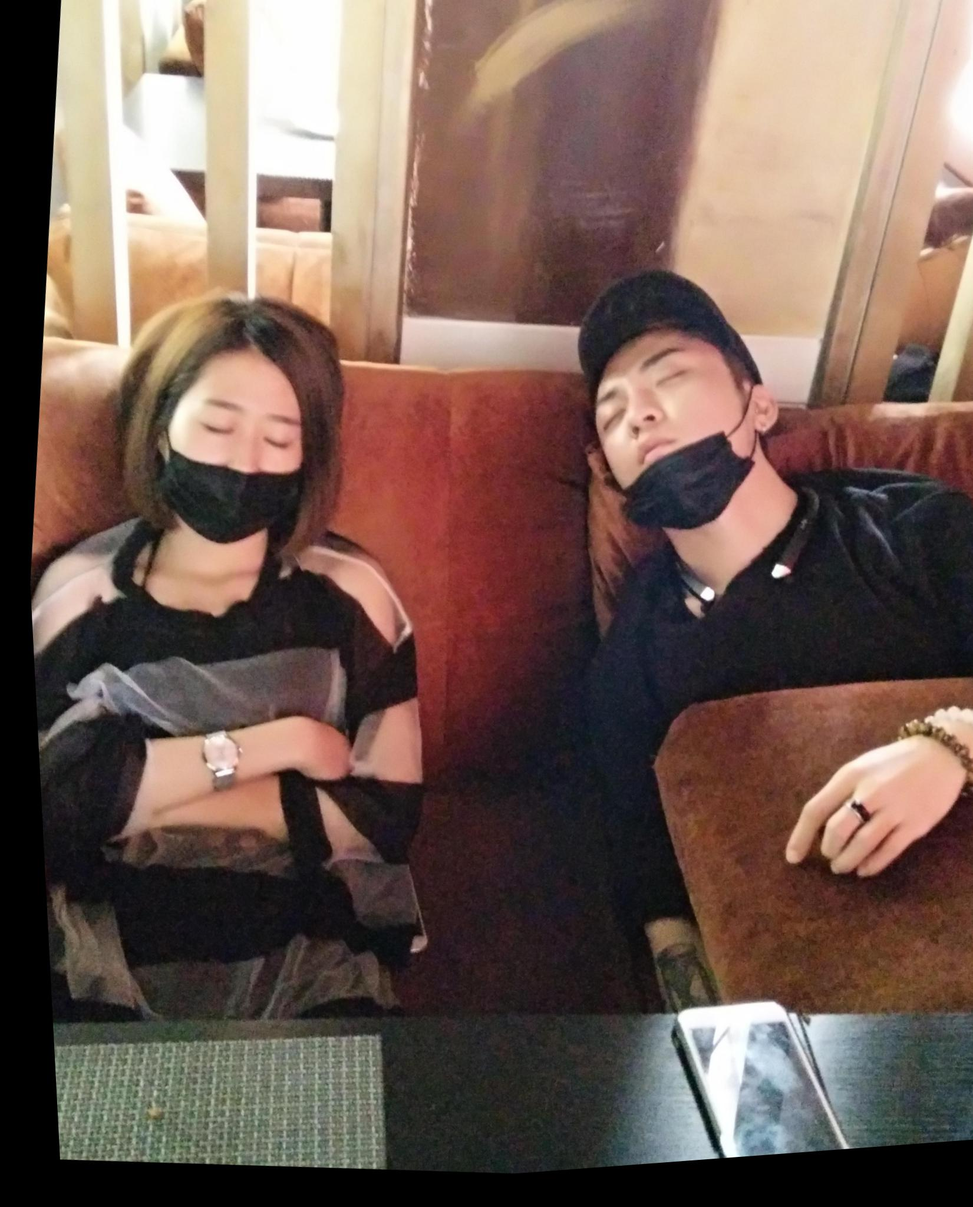WRONG: (570, 334, 743, 539), (143, 367, 318, 566)
